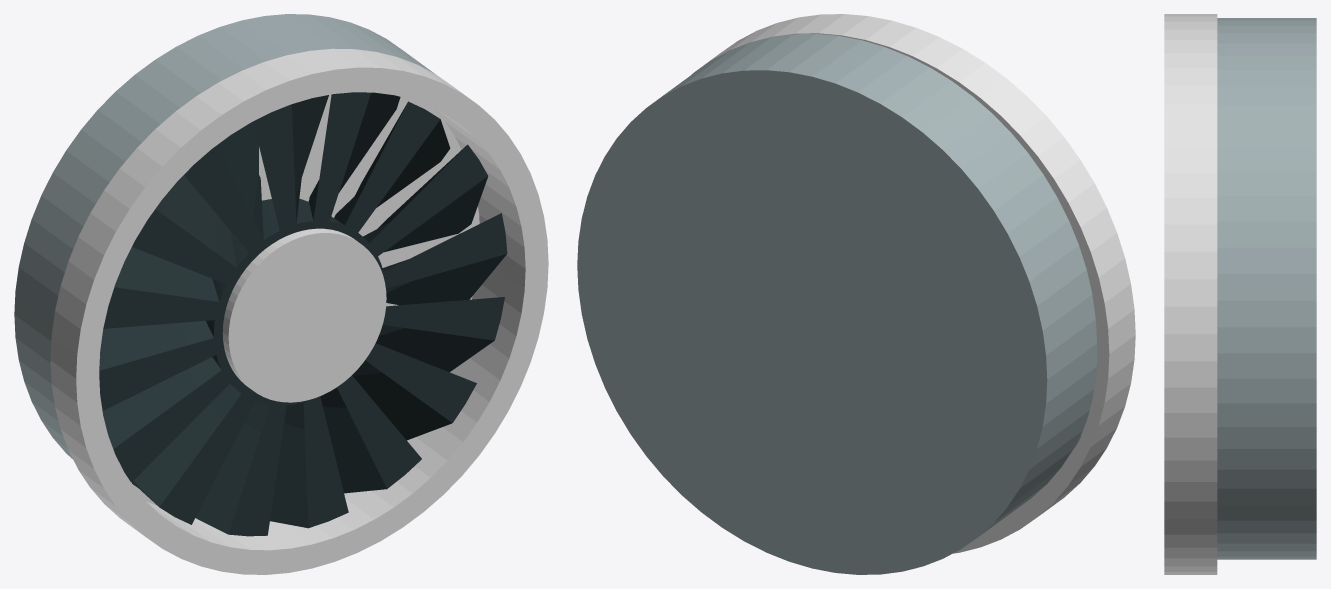
Rendered from Cooler.glb.
3 renders of one model, left to right at view 1: azimuth 30°, elevation 25°; view 2: azimuth 150°, elevation 25°; view 3: azimuth 270°, elevation 25°, orthographic. The views are drawn at different scales.
Parts seen in each view (by area): view 1: Gear.018, Cylinder.057, Cylinder.058; view 2: Cylinder.058, Cylinder.057; view 3: Cylinder.058, Cylinder.057.
Part boxes in pixels (x1=…): Gear.018: x1=99, y1=92, x2=507, y2=536; Cylinder.057: x1=50, y1=48, x2=548, y2=574; Cylinder.058: x1=14, y1=14, x2=434, y2=458; Cylinder.058: x1=577, y1=34, x2=1097, y2=574; Cylinder.057: x1=691, y1=14, x2=1135, y2=553; Cylinder.058: x1=1217, y1=18, x2=1316, y2=559; Cylinder.057: x1=1164, y1=14, x2=1217, y2=574.
Bounding box in the file's own units: 0.1435 × 0.1435 × 0.0388.
2 materials, 1 textured.
